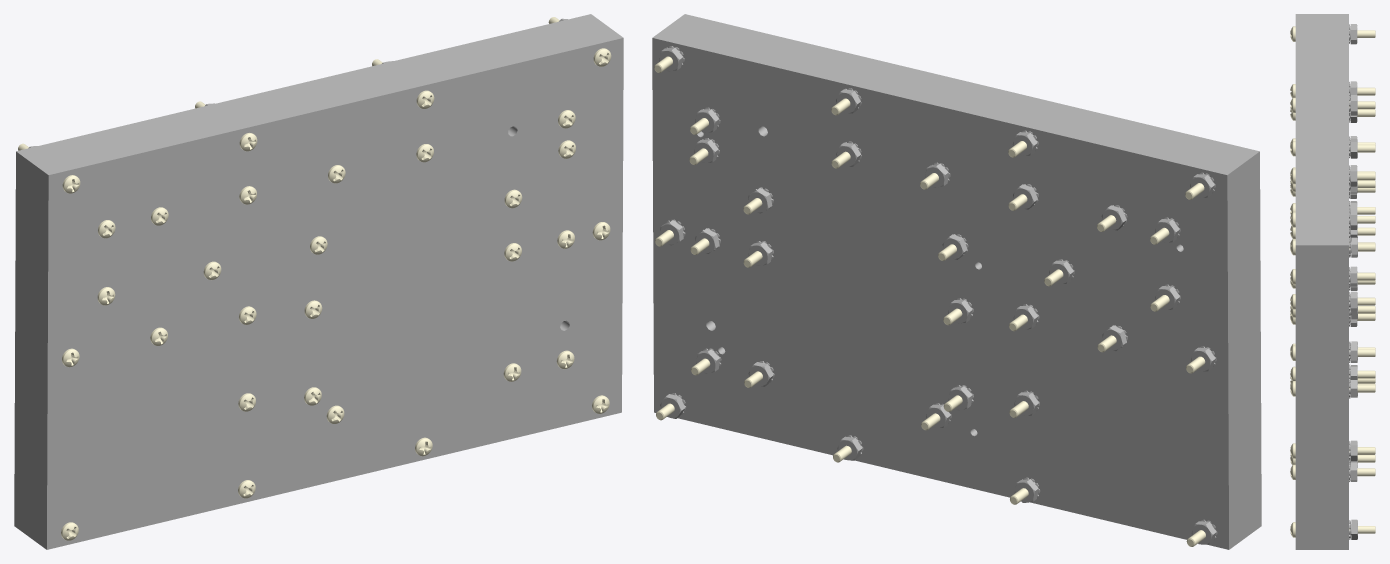
Rendered from leak-test-fixture-printed.glb.
The picture shows the model from 3 angles, left to right: view 1: azimuth 30°, elevation 25°; view 2: azimuth 150°, elevation 25°; view 3: azimuth 270°, elevation 25°; orthographic projection. The views are drawn at different scales.
Size of the model in its own units: 0.1946 by 0.1216 by 0.0305.
